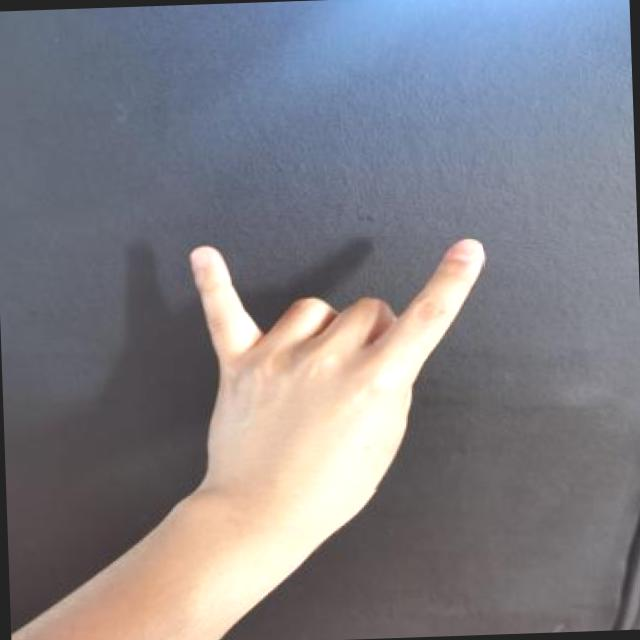U: (186, 232, 491, 498)
